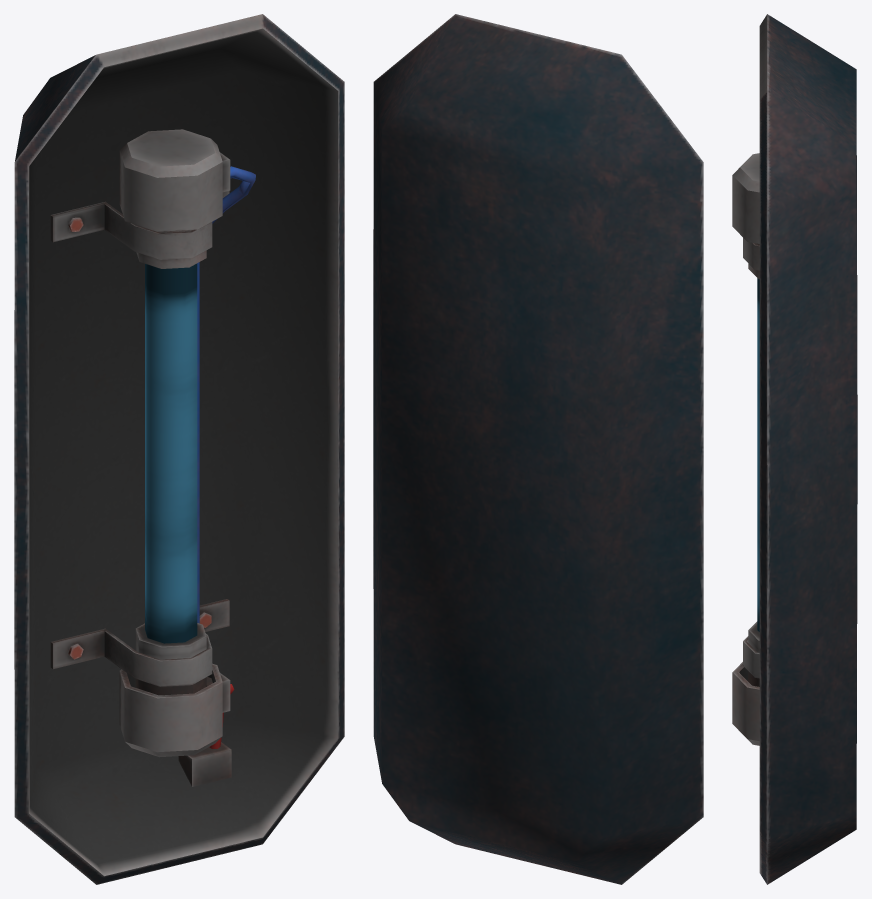
The model's file is lamp.glb.
The picture shows the model from 3 angles, left to right: view 1: azimuth 30°, elevation 25°; view 2: azimuth 150°, elevation 25°; view 3: azimuth 270°, elevation 25°; orthographic projection. The views are drawn at different scales.
Visible parts, largest first — view 1: hd_modernStreetLamp_a_Albedo.png__; view 2: hd_modernStreetLamp_a_Albedo.png__; view 3: hd_modernStreetLamp_a_Albedo.png__.
Part boxes in pixels (bbox=[...]): hd_modernStreetLamp_a_Albedo.png__: bbox=[14, 14, 344, 884]; hd_modernStreetLamp_a_Albedo.png__: bbox=[373, 14, 703, 884]; hd_modernStreetLamp_a_Albedo.png__: bbox=[732, 14, 857, 884].
Size of the model in its own units: 2.57 by 6.16 by 0.8795.
Materials: 1 (1 with a texture image).
